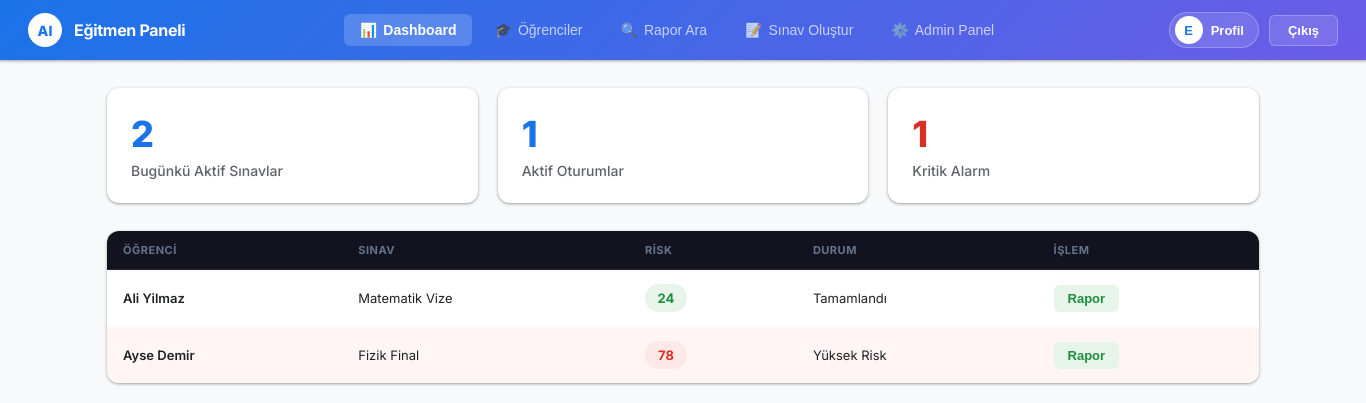
it: InstructorDashboard Page › Raporlar butonuna tiklaninca tab degismeli
The width and height of the screenshot is (1366, 403).
Click the button "🔍Rapor Ara".
click(664, 30)  # box [604,14,723,46]
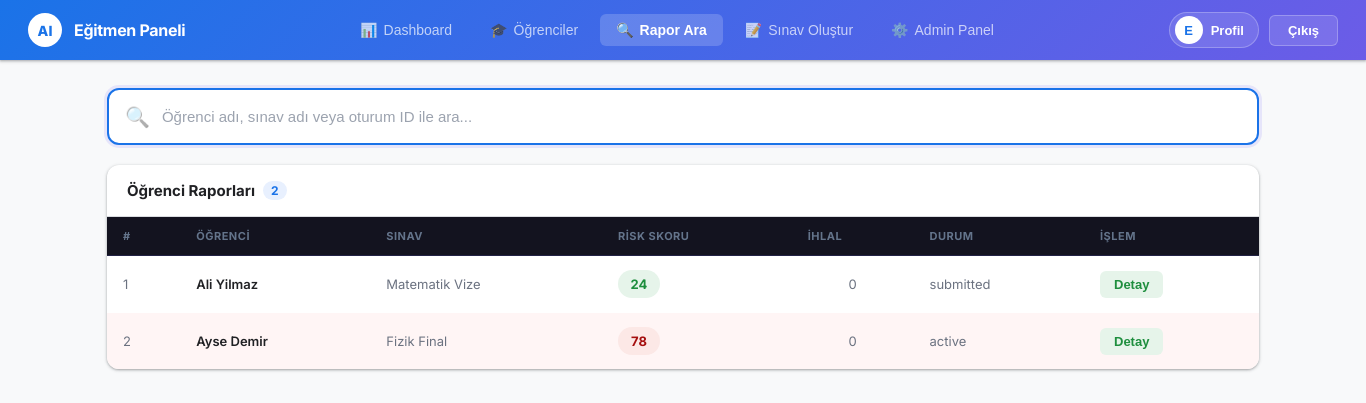
Result: the text "Öğrenci Raporları" is shown at [127,181,255,200]
